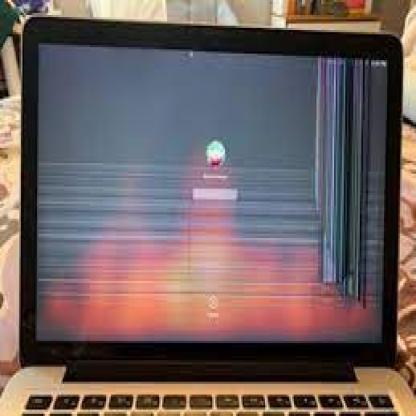lines: (35, 158, 394, 354), (310, 56, 395, 317)
